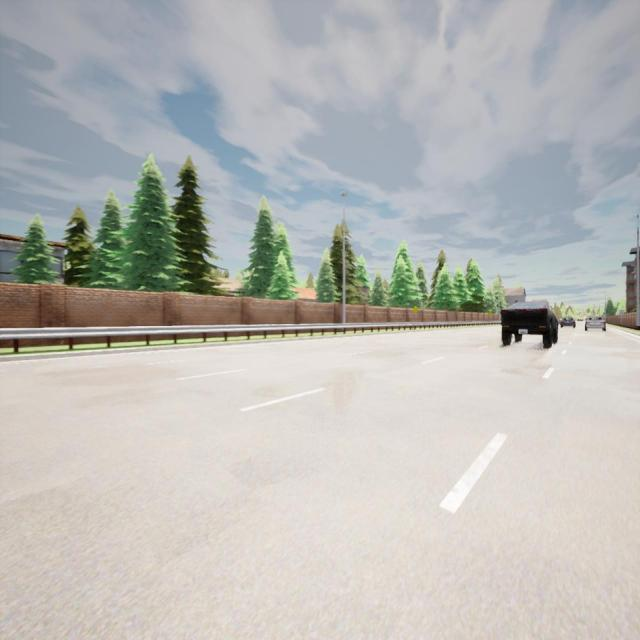Traffic_Signs: (412, 305, 419, 315), (488, 311, 492, 318), (620, 309, 624, 315)
Vehicle: (501, 300, 557, 348), (585, 314, 606, 332), (560, 315, 576, 328)
